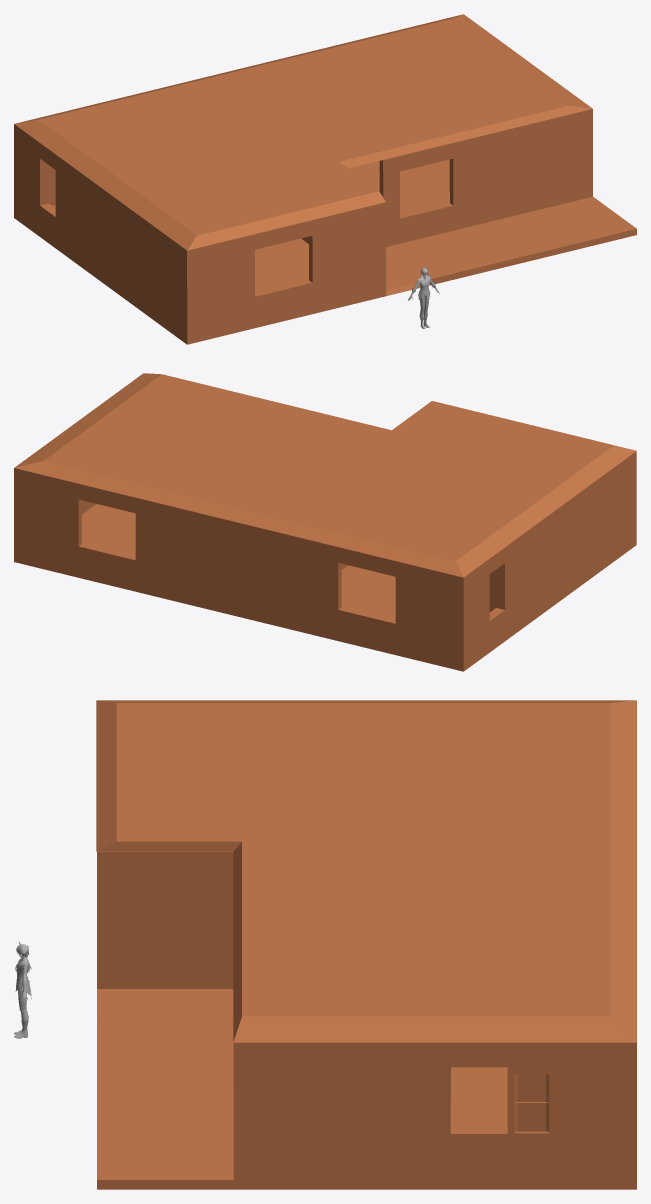
3 renders of one model, top to bottom at view 1: azimuth 30°, elevation 25°; view 2: azimuth 150°, elevation 25°; view 3: azimuth 270°, elevation 25°, orthographic. The views are drawn at different scales.
Parts seen in each view (by area): view 1: Cube, Body; view 2: Cube; view 3: Cube, Body.
Boxes of the visible parts, x1,y1,x2,y2 form: Cube: [14, 14, 636, 344]; Body: [408, 267, 439, 328]; Cube: [14, 373, 636, 671]; Cube: [96, 700, 636, 1189]; Body: [14, 941, 31, 1038].
Size of what is drawn, in the model's own units: 15.01 by 3.74 by 11.54.
